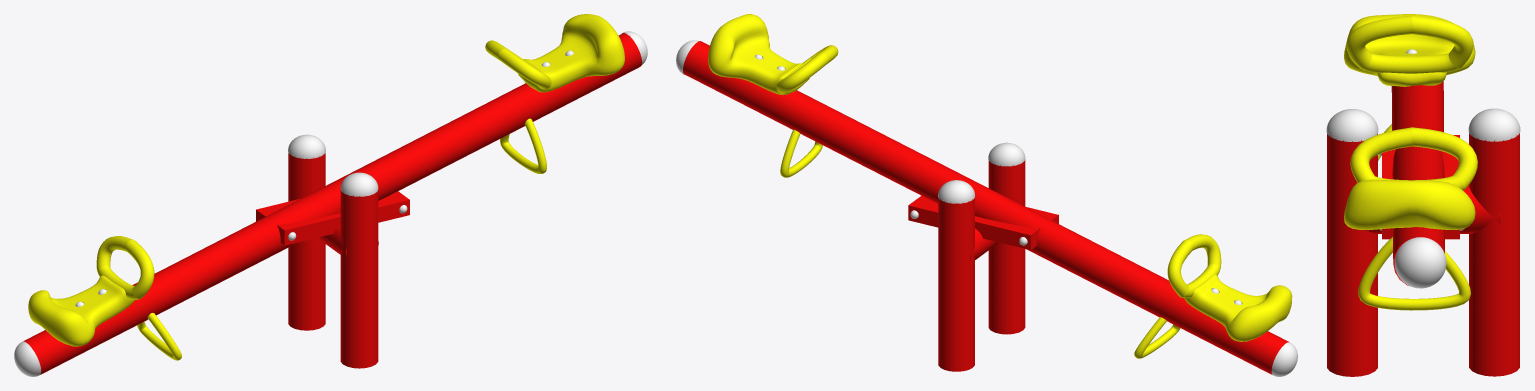
File: 4_seesaw.fbx
The picture shows the model from 3 angles, left to right: view 1: azimuth 30°, elevation 25°; view 2: azimuth 150°, elevation 25°; view 3: azimuth 270°, elevation 25°; orthographic projection. The views are drawn at different scales.
Visible parts, largest first — view 1: Cylinder11111595, Cylinder11111597, Cylinder11111598, Box26243, Box26242, Box26241, Line11433, Line11436, Line11435, Line11434, GeoSphere226, GeoSphere227 (+1 smaller); view 2: Cylinder11111595, Cylinder11111598, Cylinder11111597, Box26243, Box26242, Box26241, Line11433, Line11436, Line11435, Line11434, GeoSphere227, GeoSphere226 (+1 smaller); view 3: Cylinder11111598, Cylinder11111597, Box26243, Cylinder11111595, Line11433, Line11436, Box26242, Line11435, GeoSphere229, GeoSphere227, GeoSphere226, Box26241 (+1 smaller).
Boxes of the visible parts, left/top/right/bottom form: Cylinder11111595: left=23, top=33, right=642, bottom=374; Cylinder11111597: left=340, top=189, right=378, bottom=368; Cylinder11111598: left=288, top=153, right=325, bottom=330; Box26243: left=518, top=14, right=624, bottom=92; Box26242: left=28, top=275, right=134, bottom=346; Box26241: left=256, top=191, right=409, bottom=245; Line11433: left=96, top=236, right=154, bottom=299; Line11436: left=485, top=40, right=551, bottom=89; Line11435: left=500, top=118, right=546, bottom=173; Line11434: left=137, top=313, right=181, bottom=360; GeoSphere226: left=340, top=172, right=378, bottom=196; GeoSphere227: left=288, top=134, right=325, bottom=158; Cylinder11111595: left=683, top=41, right=1289, bottom=374; Cylinder11111598: left=938, top=198, right=974, bottom=371; Cylinder11111597: left=988, top=159, right=1025, bottom=334; Box26243: left=708, top=14, right=809, bottom=94; Box26242: left=1184, top=274, right=1292, bottom=341; Box26241: left=908, top=196, right=1058, bottom=249; Line11433: left=1167, top=234, right=1221, bottom=298; Line11436: left=776, top=45, right=838, bottom=93; Line11435: left=780, top=129, right=822, bottom=177; Line11434: left=1134, top=317, right=1180, bottom=358; GeoSphere227: left=938, top=180, right=974, bottom=203; GeoSphere226: left=988, top=142, right=1025, bottom=166; Cylinder11111598: left=1469, top=133, right=1519, bottom=376; Cylinder11111597: left=1327, top=133, right=1377, bottom=376; Box26243: left=1344, top=179, right=1475, bottom=230; Cylinder11111595: left=1391, top=81, right=1444, bottom=285; Line11433: left=1346, top=15, right=1473, bottom=73; Line11436: left=1350, top=127, right=1477, bottom=190; Box26242: left=1344, top=14, right=1475, bottom=86; Line11435: left=1358, top=237, right=1470, bottom=310; GeoSphere229: left=1394, top=237, right=1446, bottom=288; GeoSphere227: left=1468, top=108, right=1520, bottom=141; GeoSphere226: left=1326, top=109, right=1378, bottom=141; Box26241: left=1382, top=135, right=1459, bottom=239.
Bounding box in the file's own units: 191 × 37.29 × 76.13.
